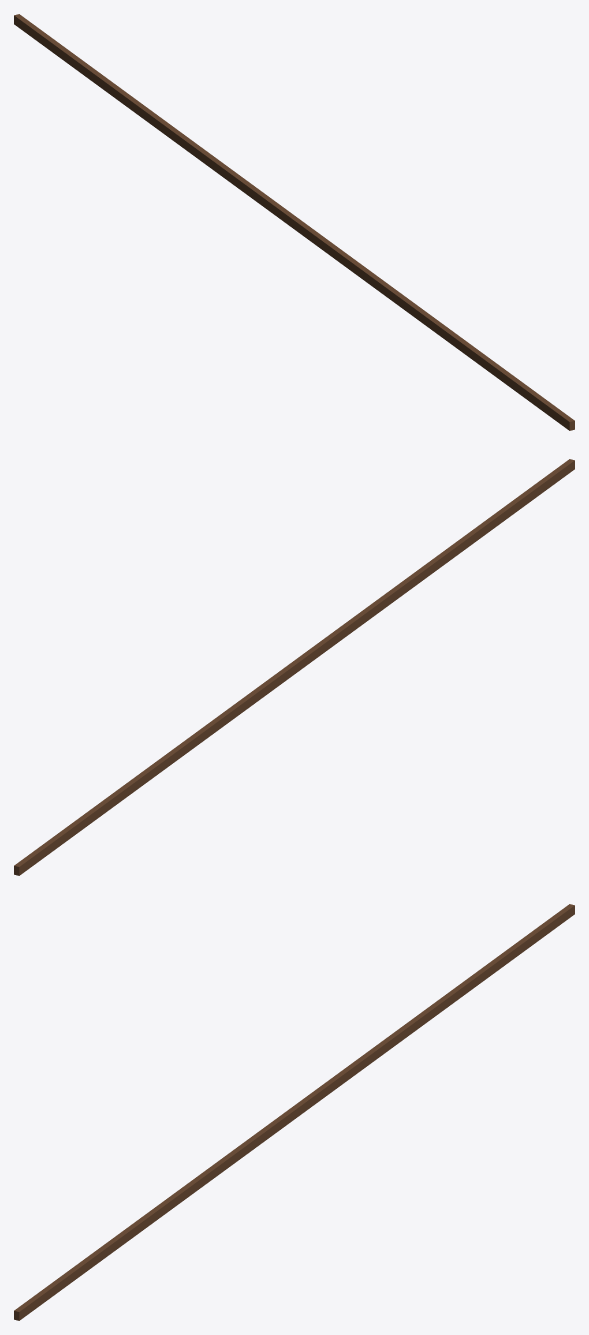
3 renders of one model, top to bottom at view 1: azimuth 30°, elevation 25°; view 2: azimuth 150°, elevation 25°; view 3: azimuth 330°, elevation 25°, orthographic.
Visible parts, largest first — view 1: Cube.002; view 2: Cube.002; view 3: Cube.002.
Boxes of the visible parts, box(x1,y1,x2,y2) form: Cube.002: box(14, 14, 574, 430); Cube.002: box(14, 459, 574, 875); Cube.002: box(14, 904, 574, 1320).
Bounding box in the file's own units: 0.25 × 0.4 × 45.
